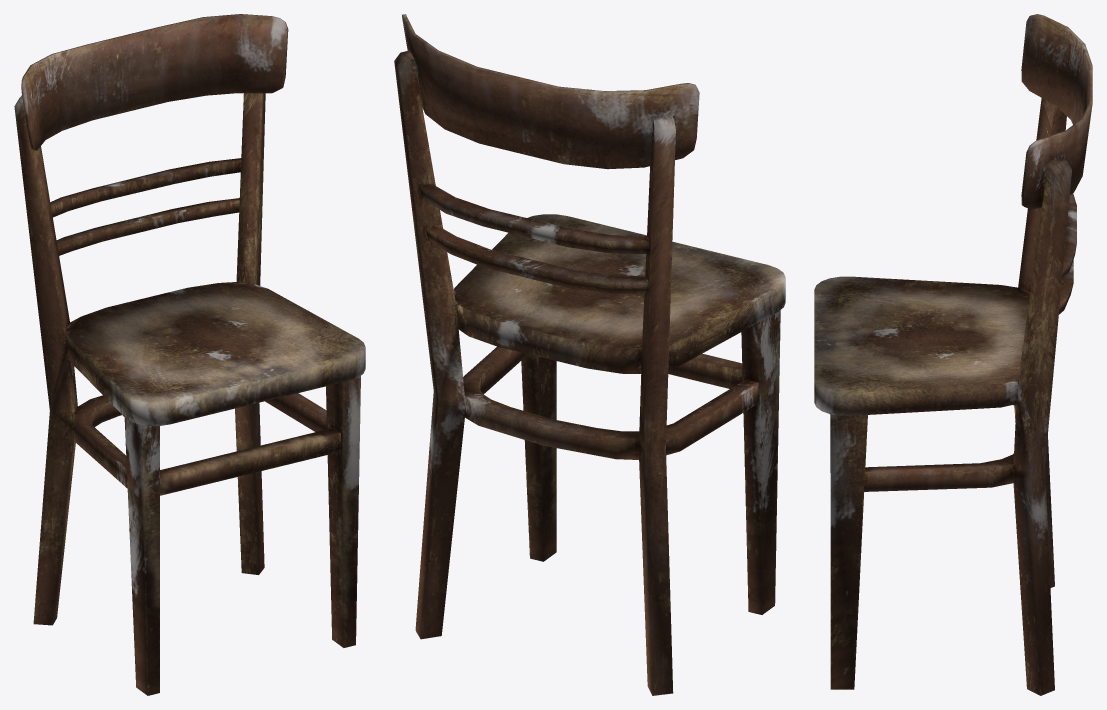
The model's file is obj_stul_18f92e.glb.
The picture shows the model from 3 angles, left to right: view 1: azimuth 30°, elevation 25°; view 2: azimuth 150°, elevation 25°; view 3: azimuth 270°, elevation 25°; orthographic projection. The views are drawn at different scales.
Parts seen in each view (by area): view 1: obj_stul_18f92e; view 2: obj_stul_18f92e; view 3: obj_stul_18f92e.
Boxes of the visible parts, <box> form: obj_stul_18f92e: <box>14,14,365,695</box>; obj_stul_18f92e: <box>394,14,785,695</box>; obj_stul_18f92e: <box>814,14,1092,695</box>.
Bounding box in the file's own units: 0.4319 × 0.85 × 0.3824.
1 material, 1 textured.
